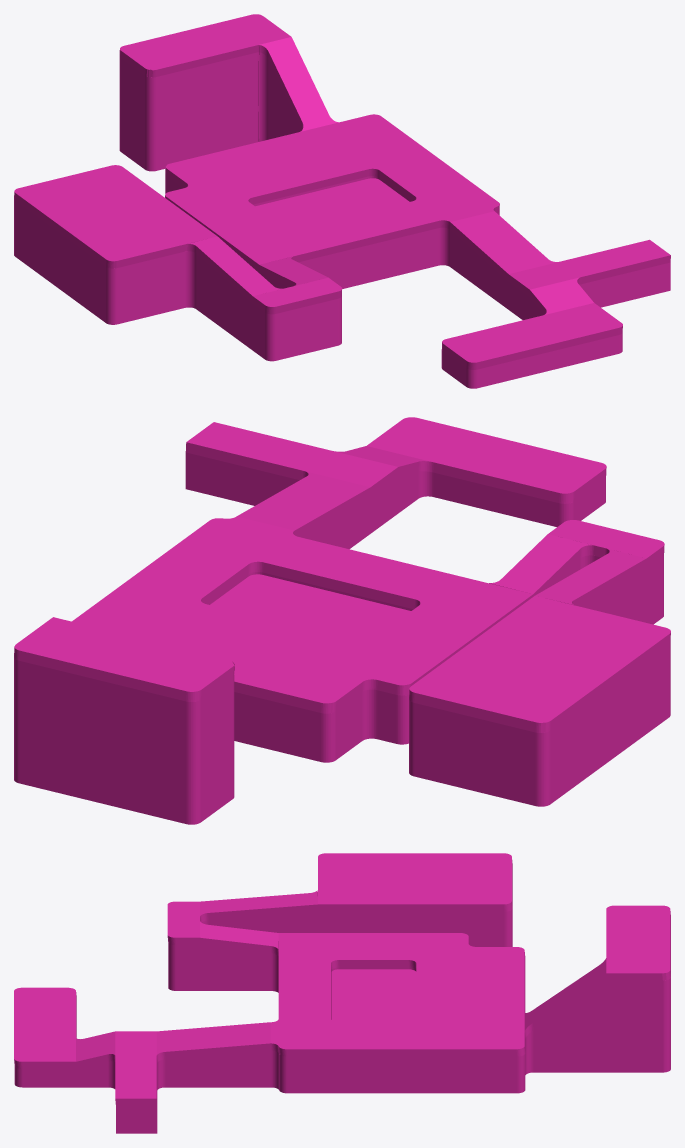
Rendered from CuevaB10.fbx.
3 renders of one model, top to bottom at view 1: azimuth 30°, elevation 25°; view 2: azimuth 150°, elevation 25°; view 3: azimuth 270°, elevation 25°, orthographic. The views are drawn at different scales.
Visible parts, largest first — view 1: Cube.001; view 2: Cube.001; view 3: Cube.001.
Part boxes in pixels (x1,y1,x2,y2): Cube.001: (14, 14, 670, 388); Cube.001: (14, 417, 670, 824); Cube.001: (14, 853, 670, 1133).
Size of the model in its own units: 12.73 by 16.22 by 2.7.
